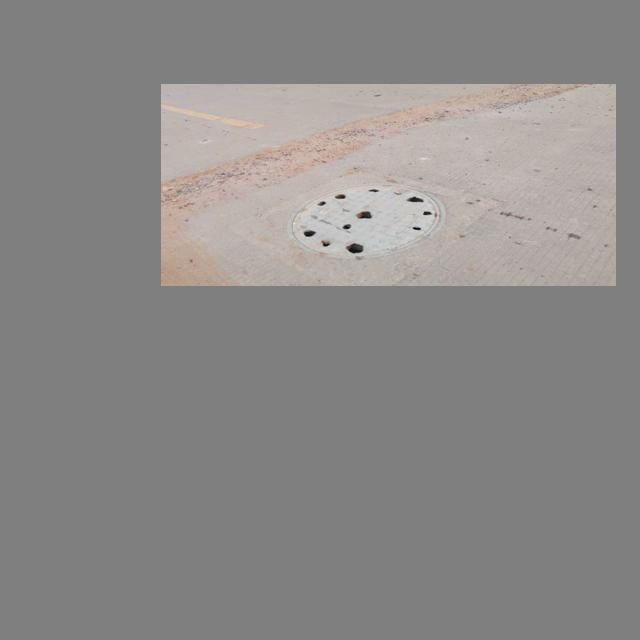broke: (287, 183, 444, 256)
